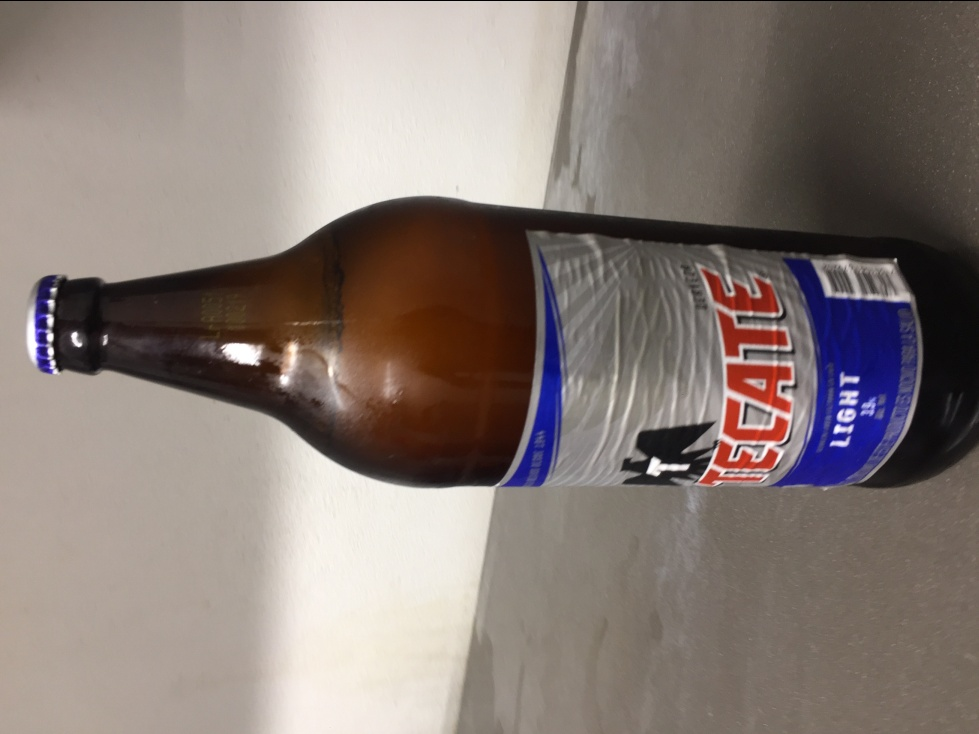tecateC: (29, 195, 979, 493)
